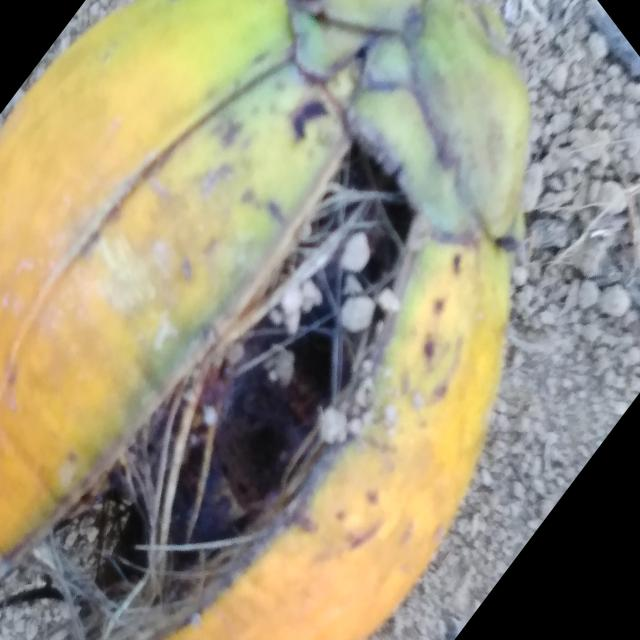damaged: (0, 0, 529, 640)
